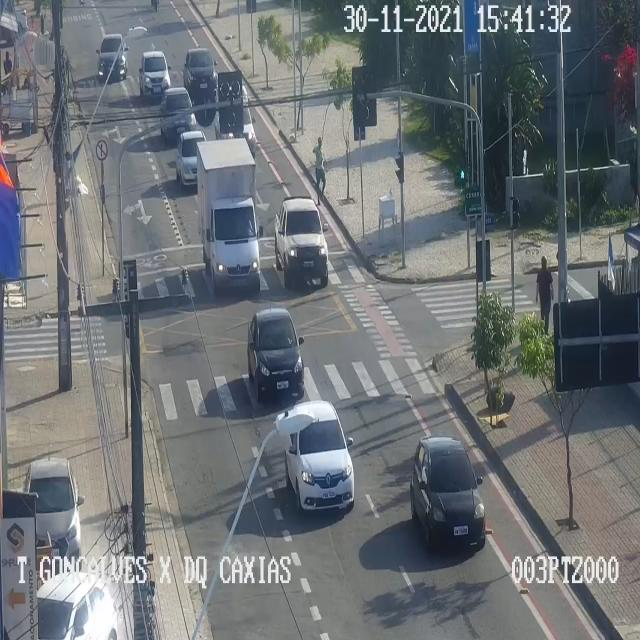Car: (410, 434, 488, 554), (286, 398, 356, 516), (35, 568, 119, 639), (24, 456, 86, 552), (275, 195, 332, 292), (248, 309, 305, 401), (215, 81, 258, 156), (158, 87, 196, 143), (175, 130, 207, 188), (182, 46, 218, 94), (95, 34, 128, 80), (139, 51, 169, 96)
Truck: (196, 139, 264, 296)
